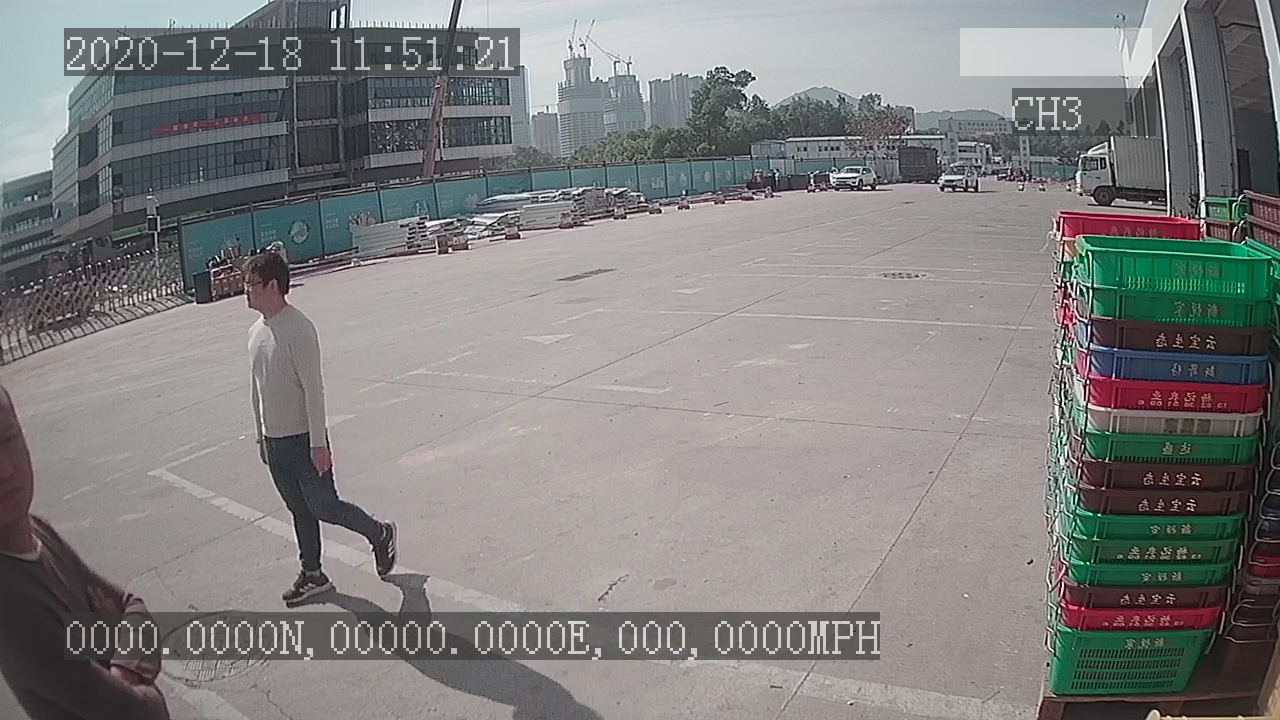person: (231, 249, 402, 610)
